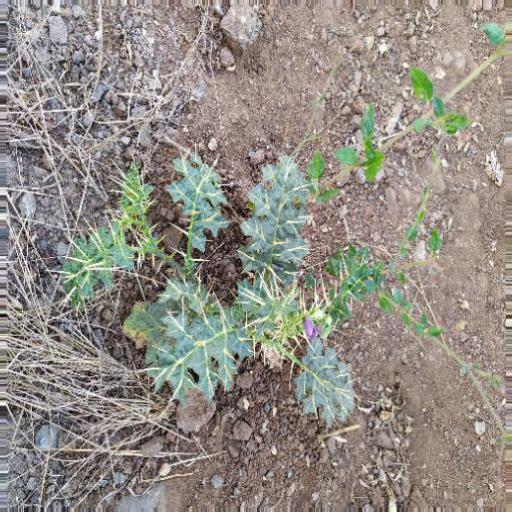weed: (51, 92, 451, 437)
